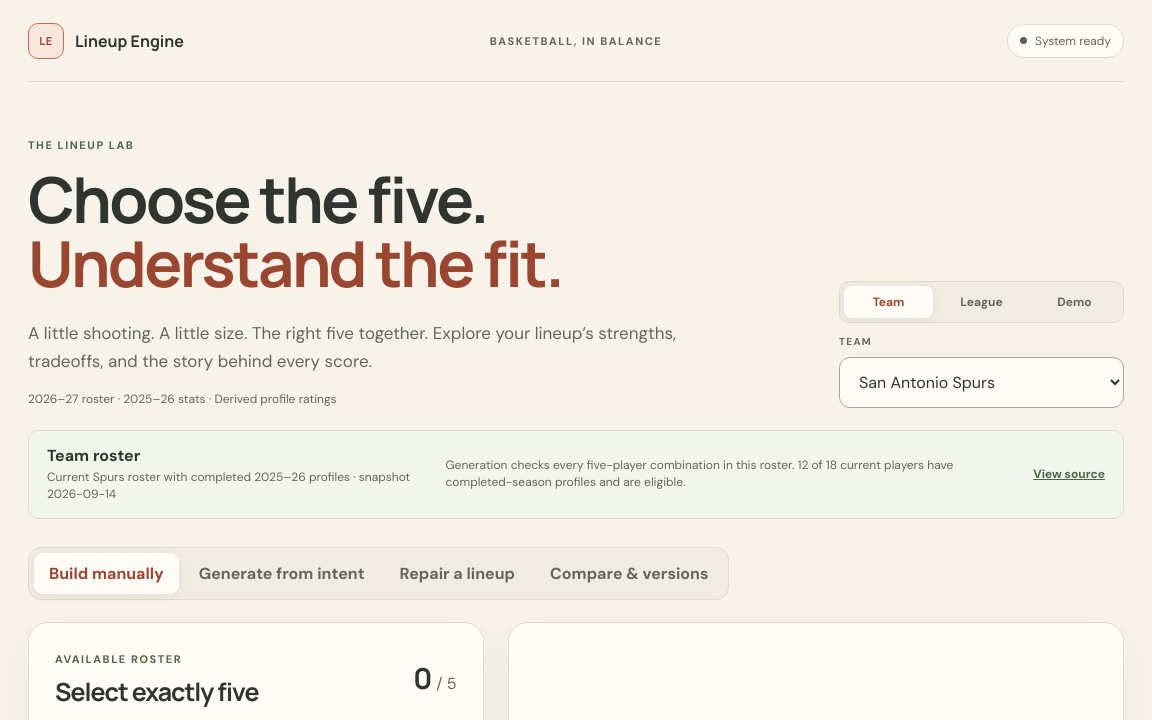
manual lineup builder › defaults to the current Spurs roster and disables players without completed-season data
This screenshot has width=1152, height=720.
expect the text "12 of 18 current players have completed-season profiles" is shown: met, box 446,457 -> 953,490
Click the tab "Generate from intent": [282, 573] box 184,553 -> 380,594
(page scrolled)
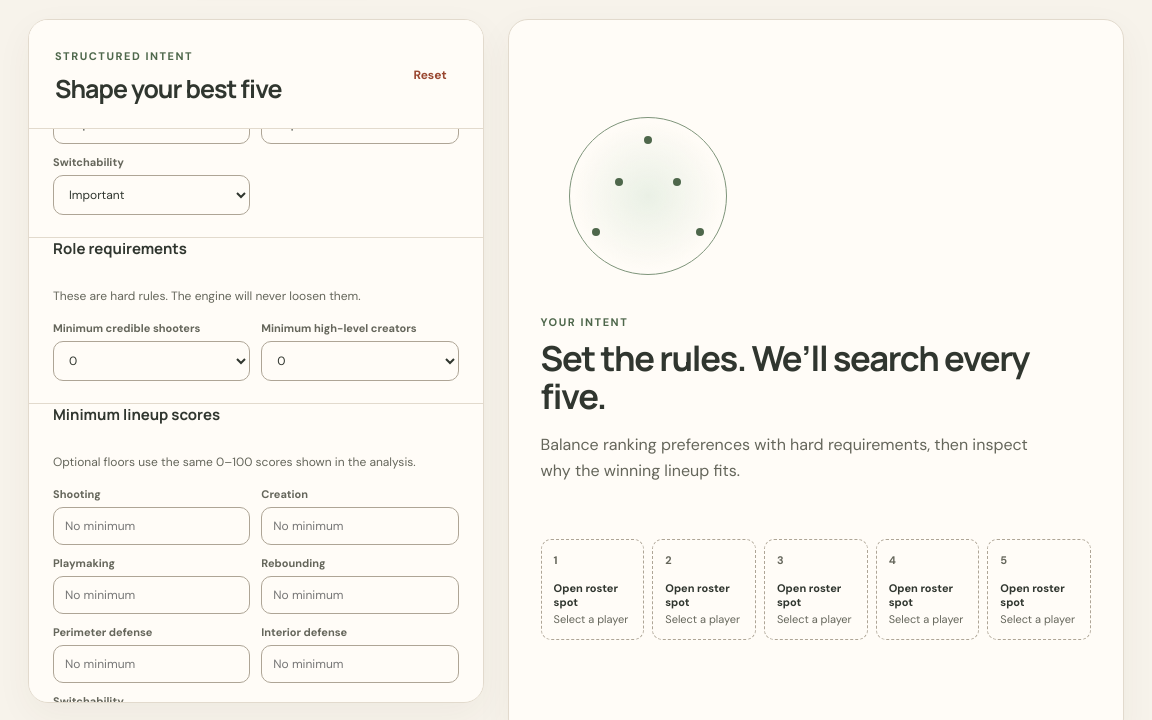
expect the dropdown labelled "Minimum credible shooters" shows "0": met, box 53,341 -> 250,381
expect the dropdown labelled "Minimum high-level creators" shows "0": met, box 261,341 -> 459,381
